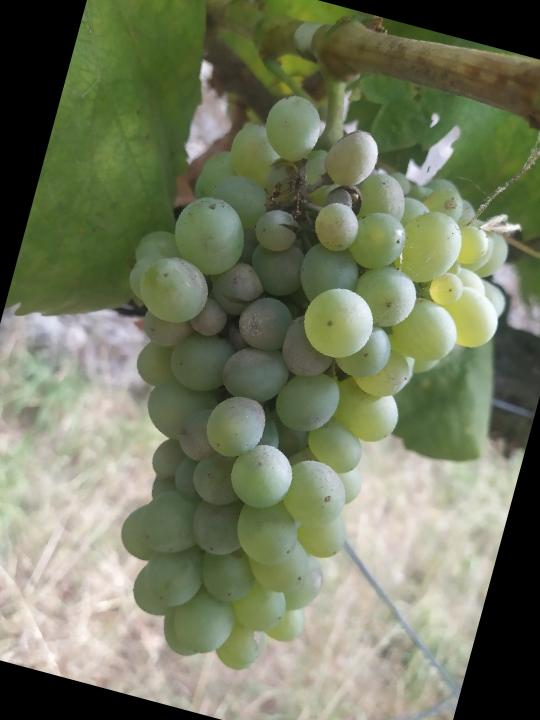grape: (33, 57, 540, 714)
